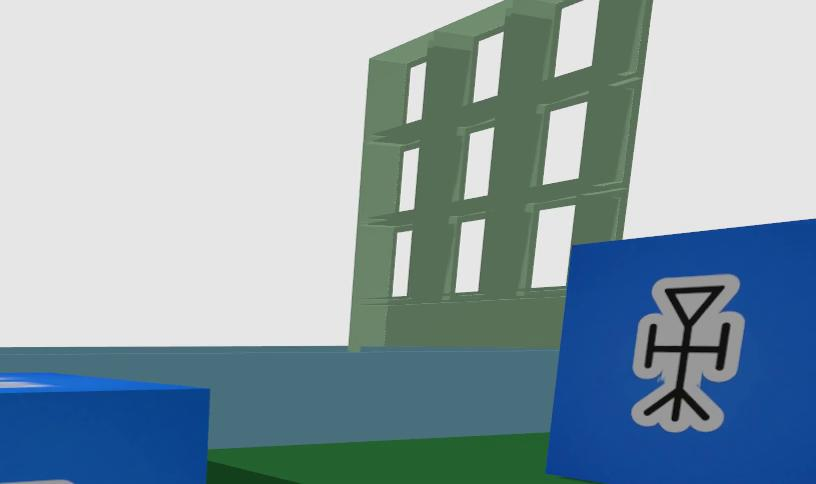KFS_REAL: (546, 219, 815, 484), (0, 372, 208, 484), (631, 274, 743, 432), (0, 480, 74, 484)
